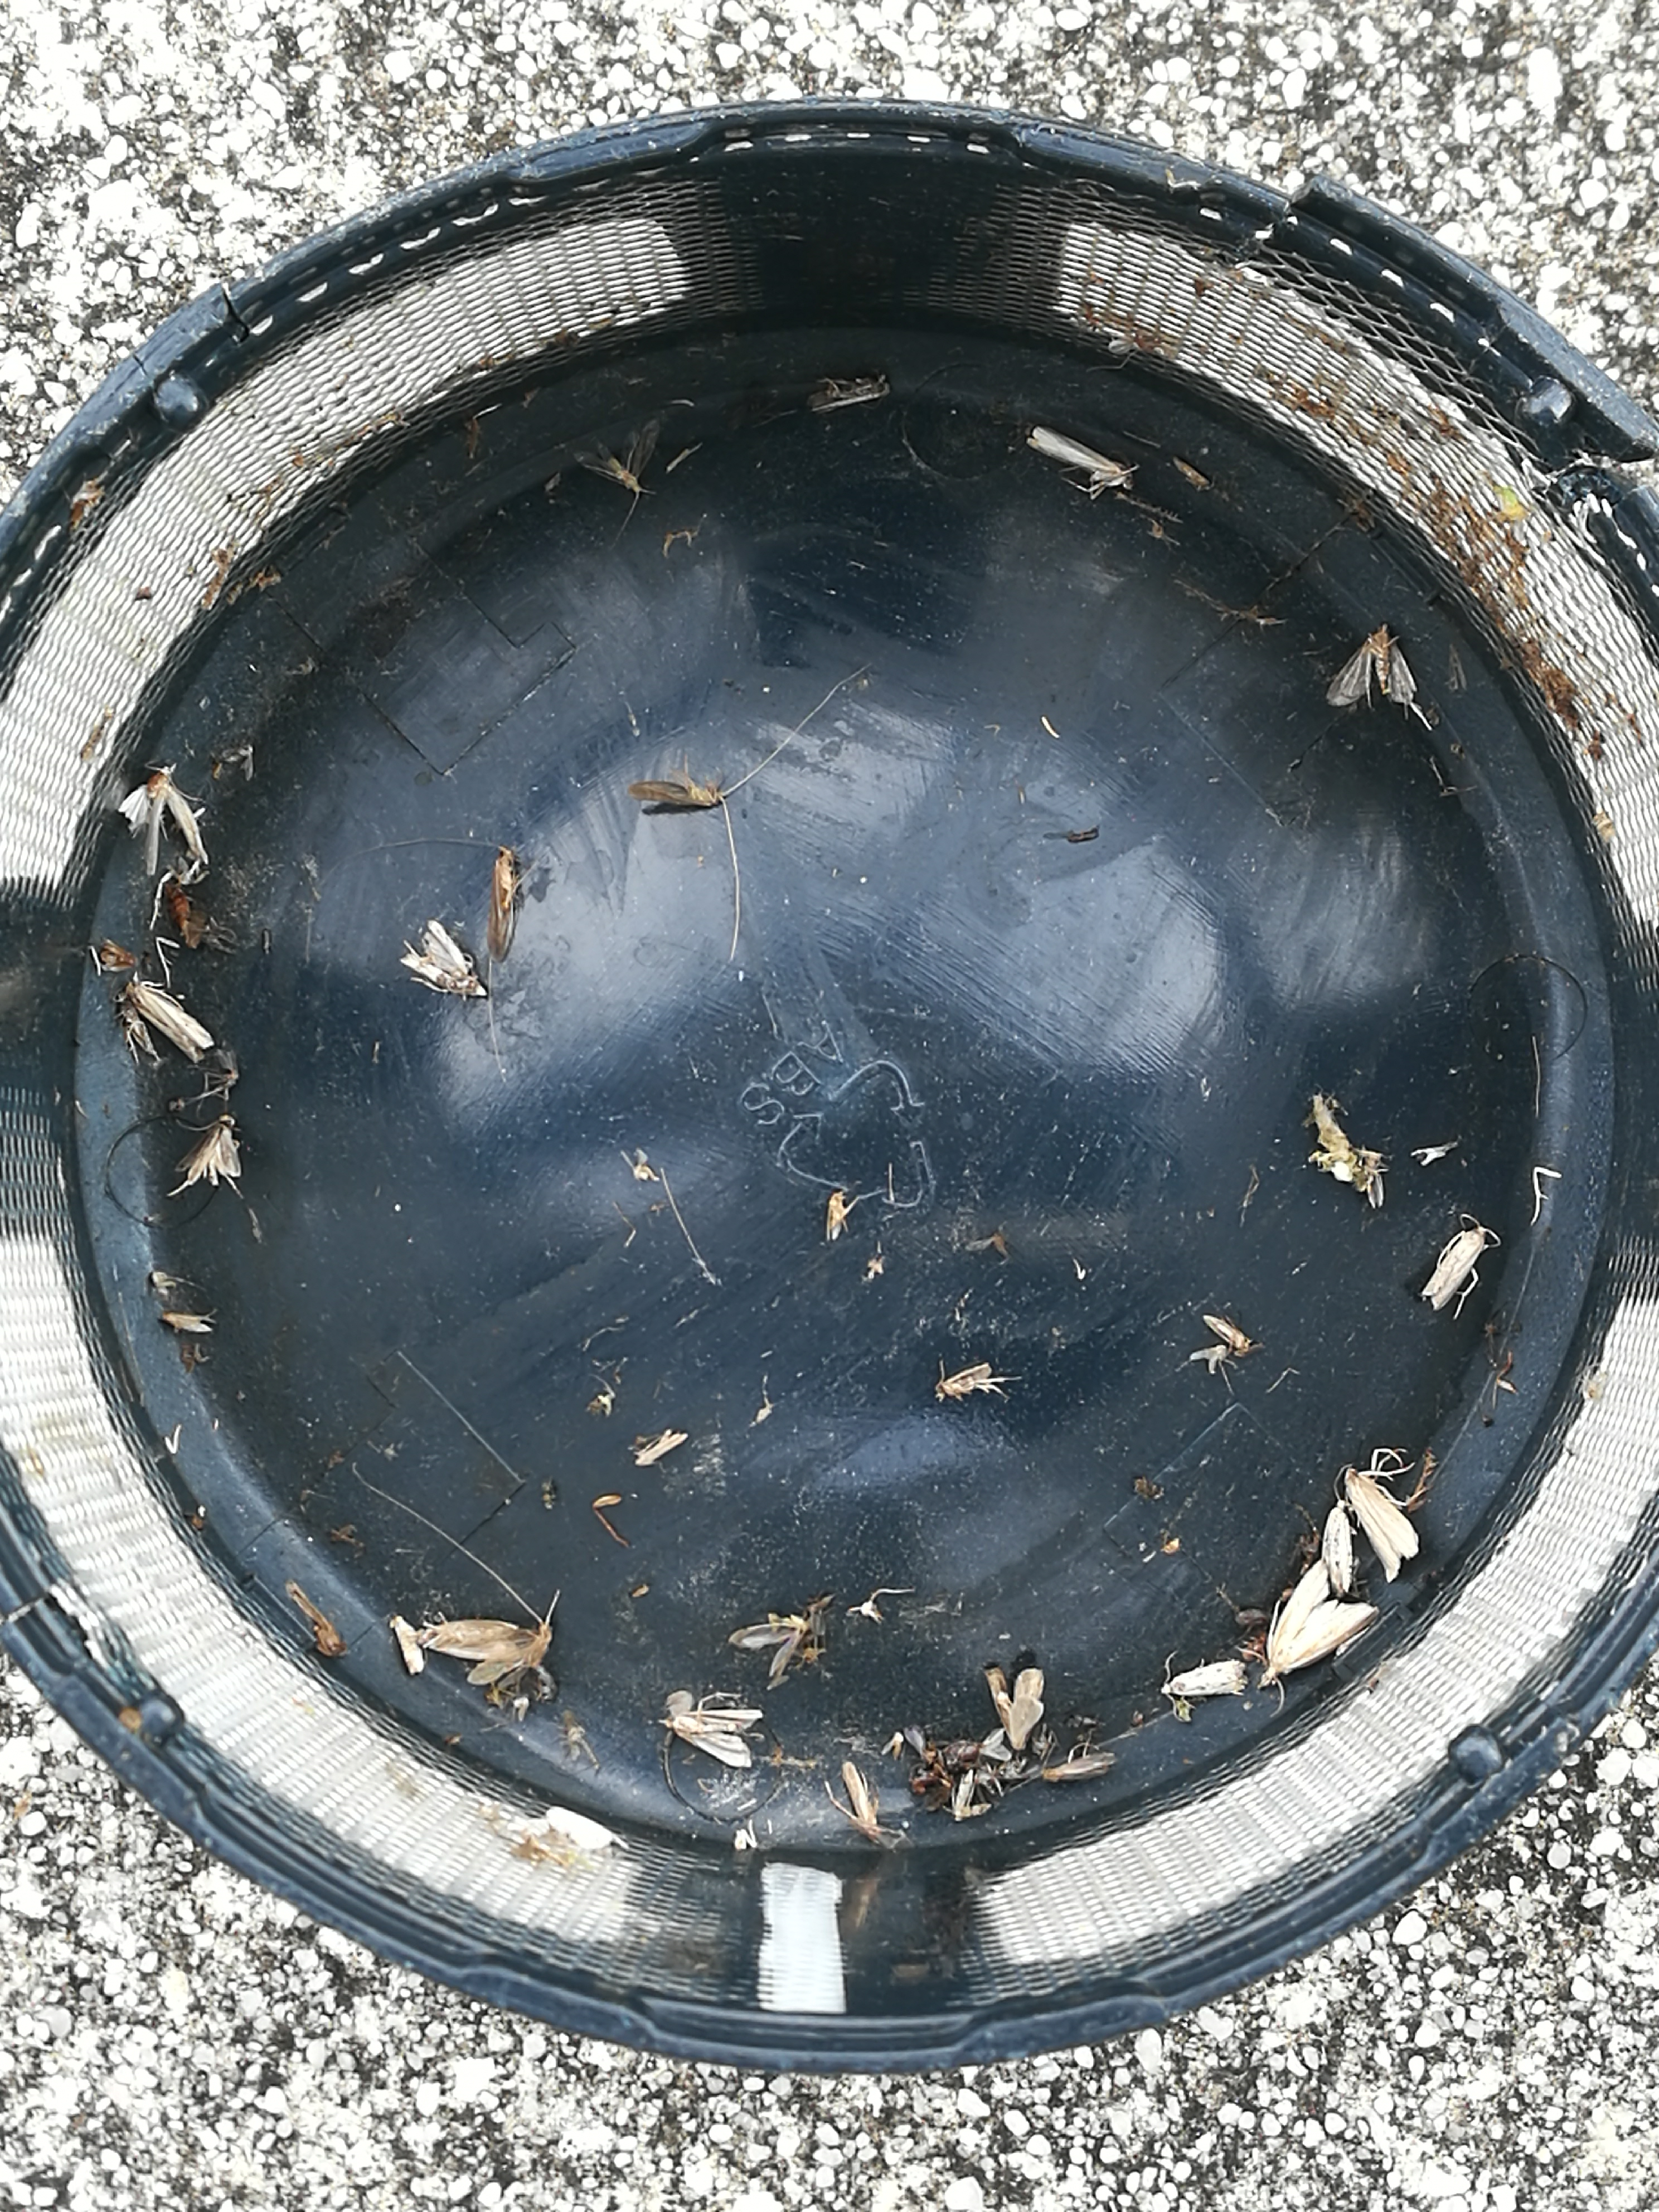mosquito: (125, 982, 211, 1057), (1030, 427, 1134, 488), (1420, 1226, 1486, 1312), (425, 1620, 549, 1663), (1159, 1662, 1248, 1696), (805, 376, 890, 411), (843, 1761, 880, 1841), (491, 848, 512, 960), (1044, 1752, 1114, 1782), (631, 782, 718, 805), (392, 1613, 423, 1676), (936, 1366, 992, 1399), (636, 1433, 687, 1467), (1204, 1315, 1246, 1346), (164, 1313, 213, 1332), (826, 1193, 843, 1238)
moth: (1267, 1562, 1378, 1670), (1345, 1470, 1419, 1581), (1326, 624, 1419, 705), (403, 921, 488, 996), (667, 1710, 763, 1766), (986, 1665, 1044, 1749), (178, 1113, 240, 1184), (1323, 1500, 1351, 1595)
